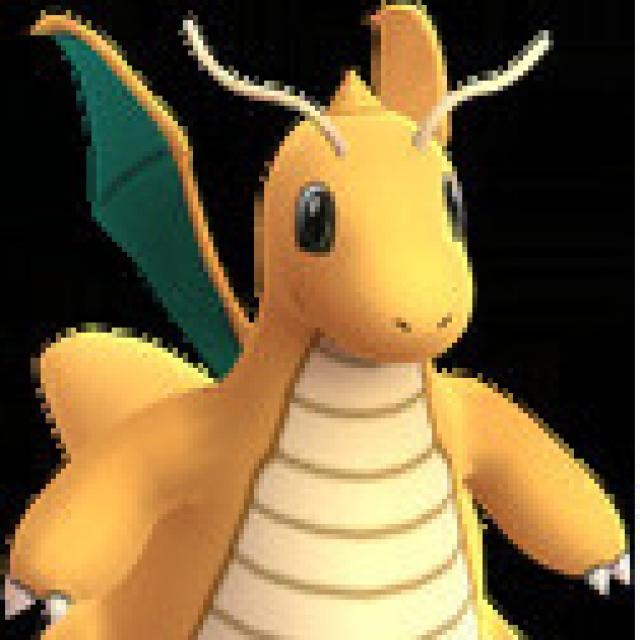Dragonite: (88, 86, 506, 636)
